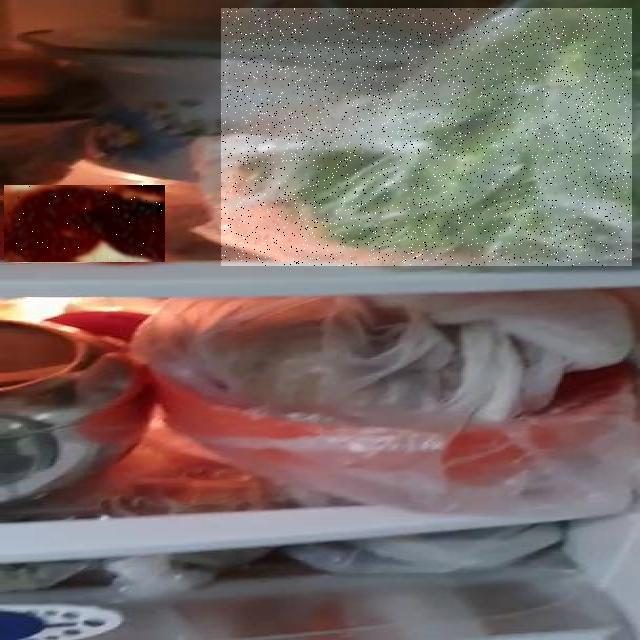Lettuce: (221, 8, 632, 266)
Tomato Paste: (4, 185, 165, 262)
